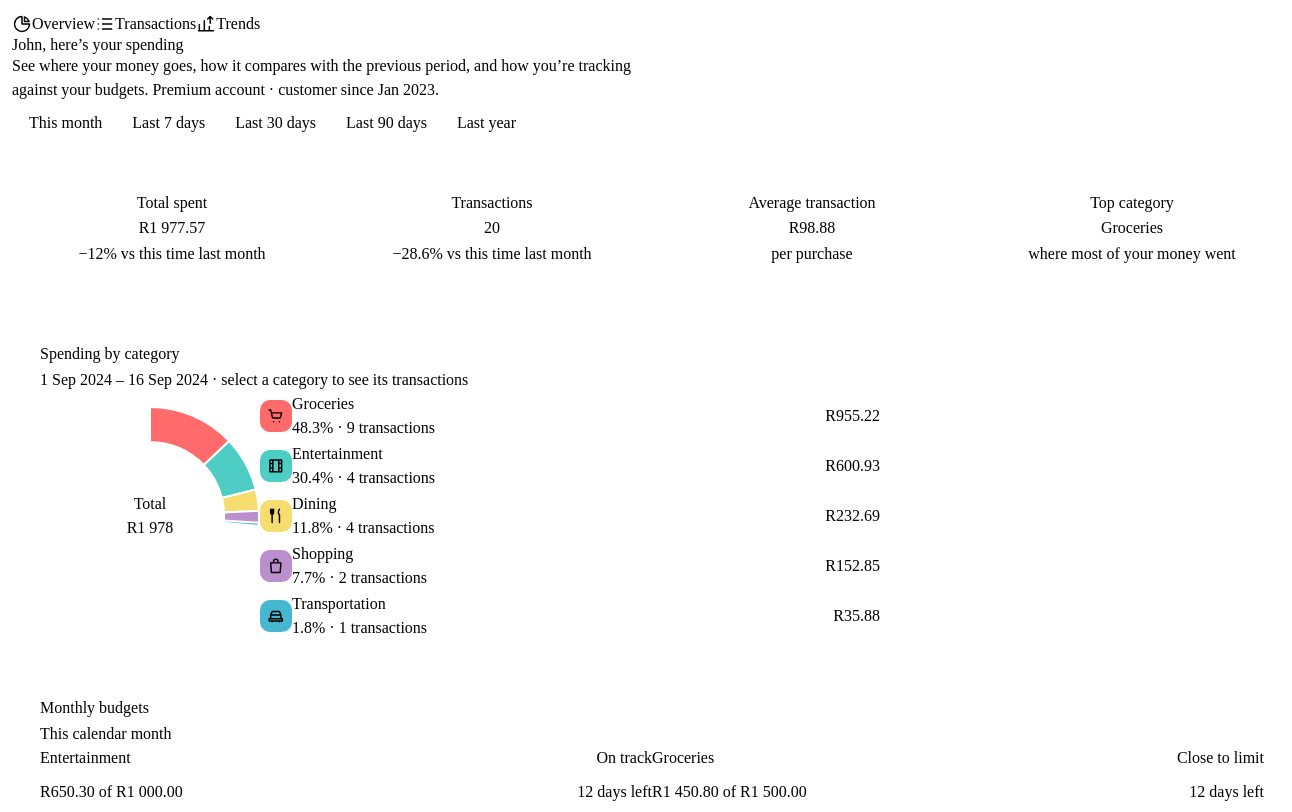
Test case: SpendingInsightsPage › jumps to filtered transactions when a category is chosen
Expected: the heading "John, here’s your spending" is shown, [12, 36, 184, 53]
Click the button "Transportation 1.8% · 1 transactions R35.88" at (276, 616), box [260, 592, 880, 640]
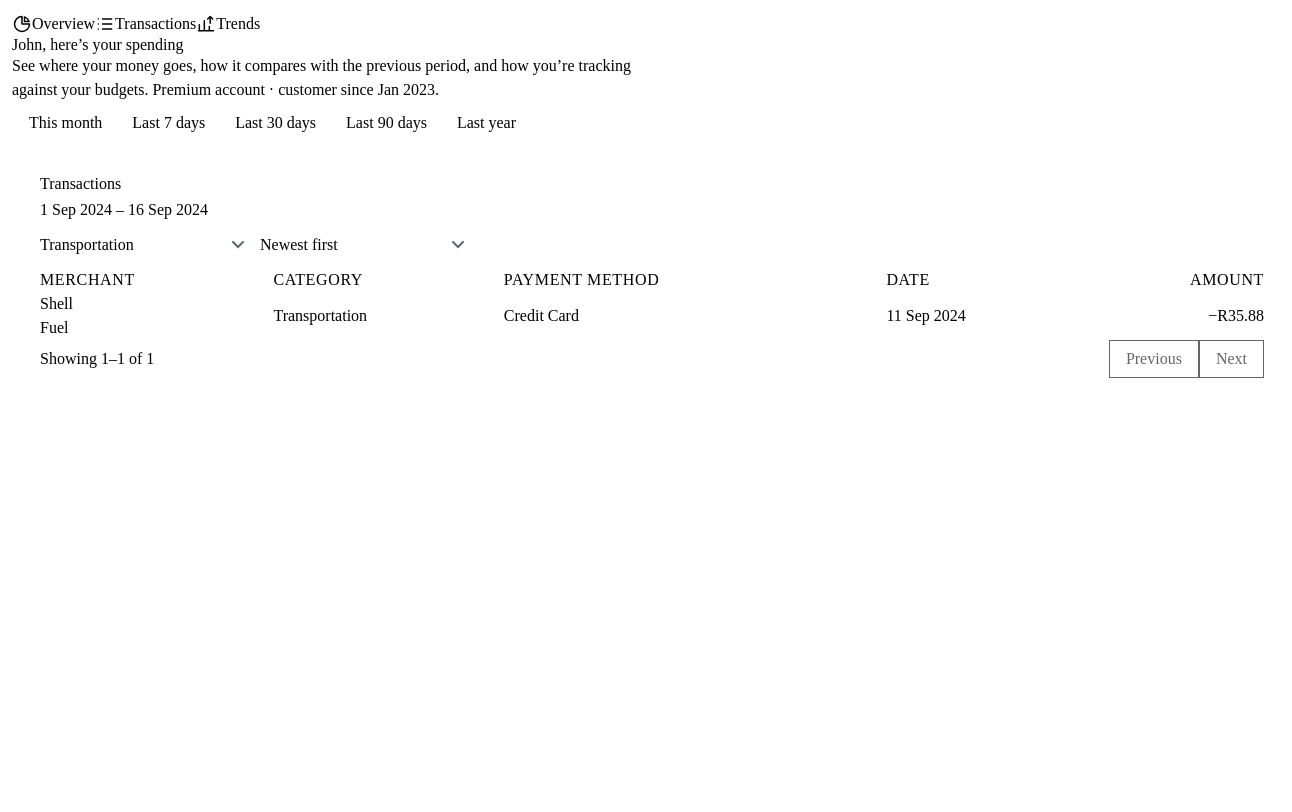
Expected: the 1st dropdown named "Filter by category" shows "Transportation", [40, 222, 260, 268]
Expected: the row "Shell Fuel Transportation Credit Card 11 Sep 2024 −R35.88" is shown, [40, 292, 1264, 340]
